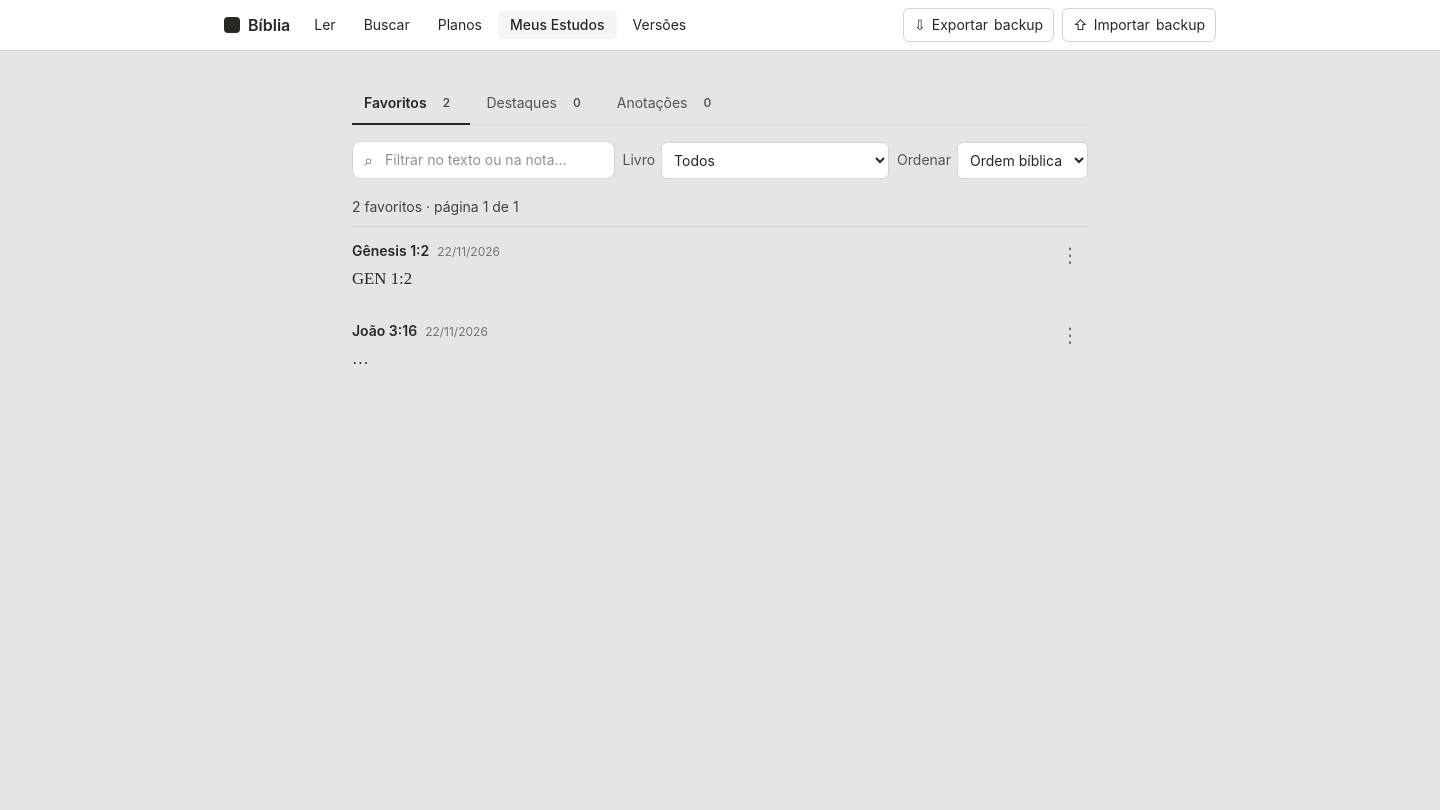
Test: Meus Estudos (UC13) › remove um favorito com confirmação (A4)
The image size is (1440, 810).
Expected: the element named "Meus Estudos" is shown, [352, 83, 1088, 125]
Expected: the message shows "2 favoritos", [352, 198, 519, 214]
Click the button named "Ações de João 3:16": (1070, 335) [1052, 317, 1088, 353]
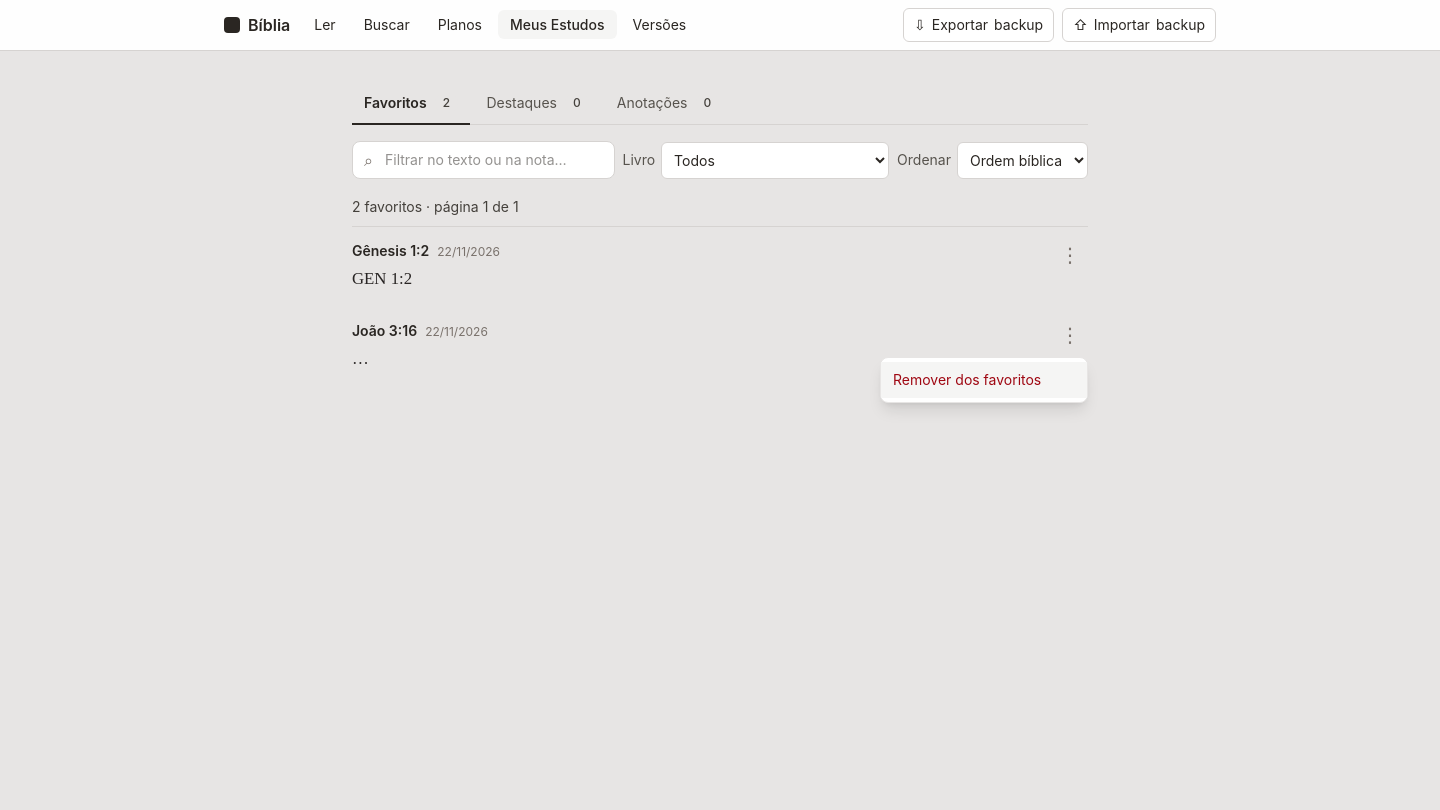
Press Enter
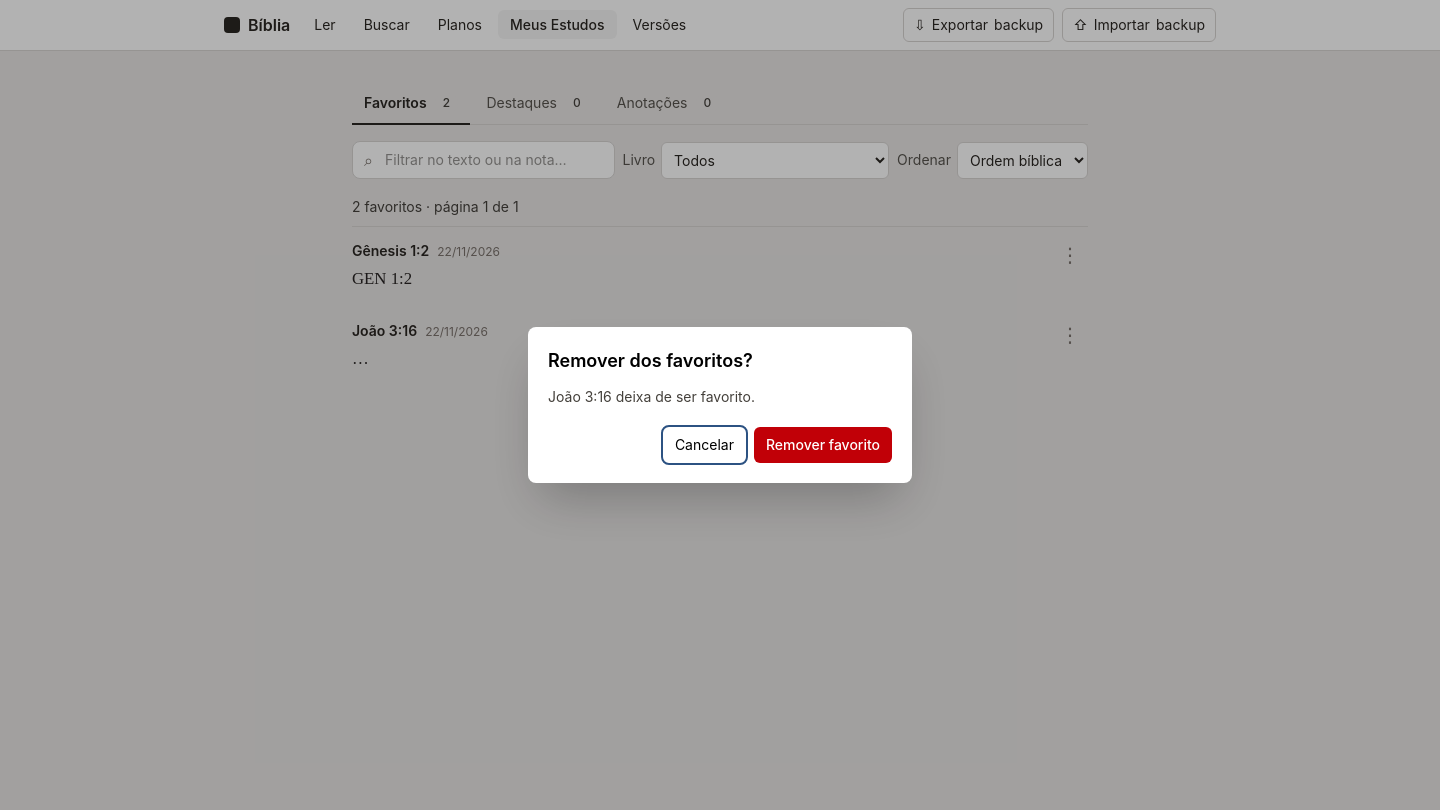
Click the button "Remover favorito": (823, 445) [754, 427, 892, 463]
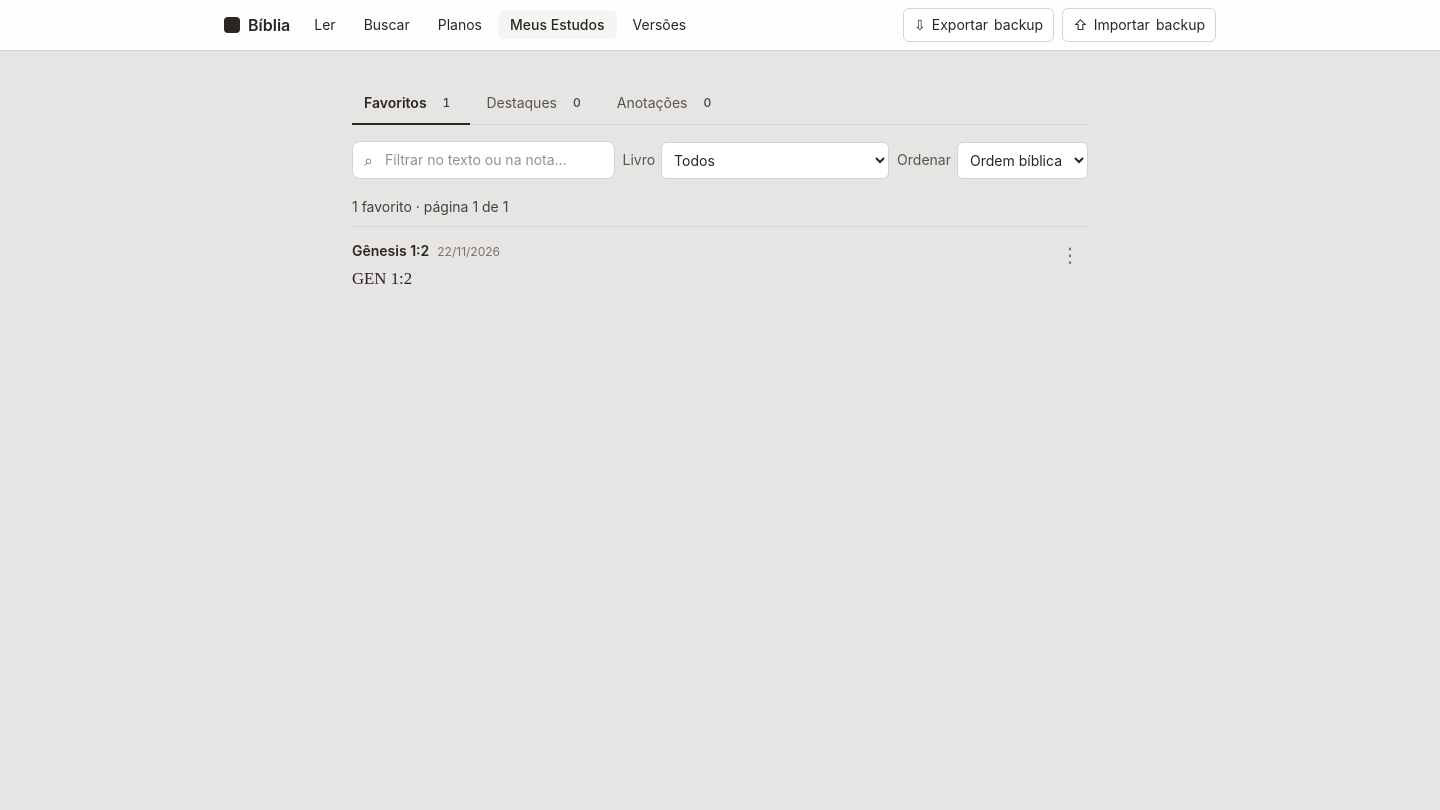
Now the message shows "1 favorito ·", box [352, 198, 508, 214]
